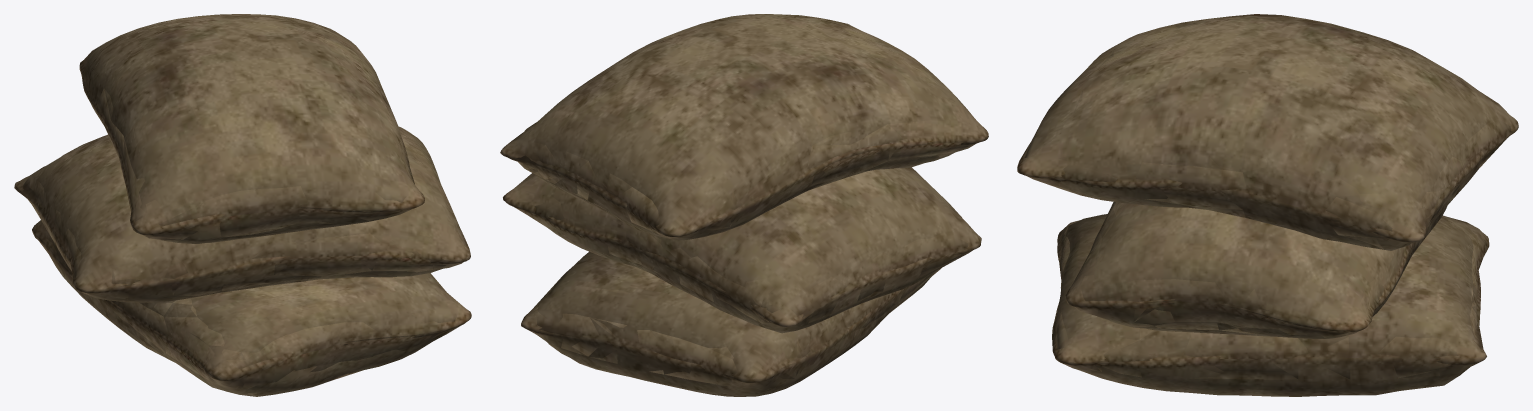
File: SackPileA.glb
3 renders of one model, left to right at view 1: azimuth 30°, elevation 25°; view 2: azimuth 150°, elevation 25°; view 3: azimuth 270°, elevation 25°, orthographic. The views are drawn at different scales.
Parts seen in each view (by area): view 1: SackPileA; view 2: SackPileA; view 3: SackPileA.
Boxes of the visible parts, x1,y1,x2,y2 form: SackPileA: (14, 14, 471, 396); SackPileA: (500, 14, 988, 396); SackPileA: (1017, 14, 1518, 396).
Bounding box in the file's own units: 0.9794 × 0.7019 × 0.9998.
Materials: 1 (1 with a texture image).
